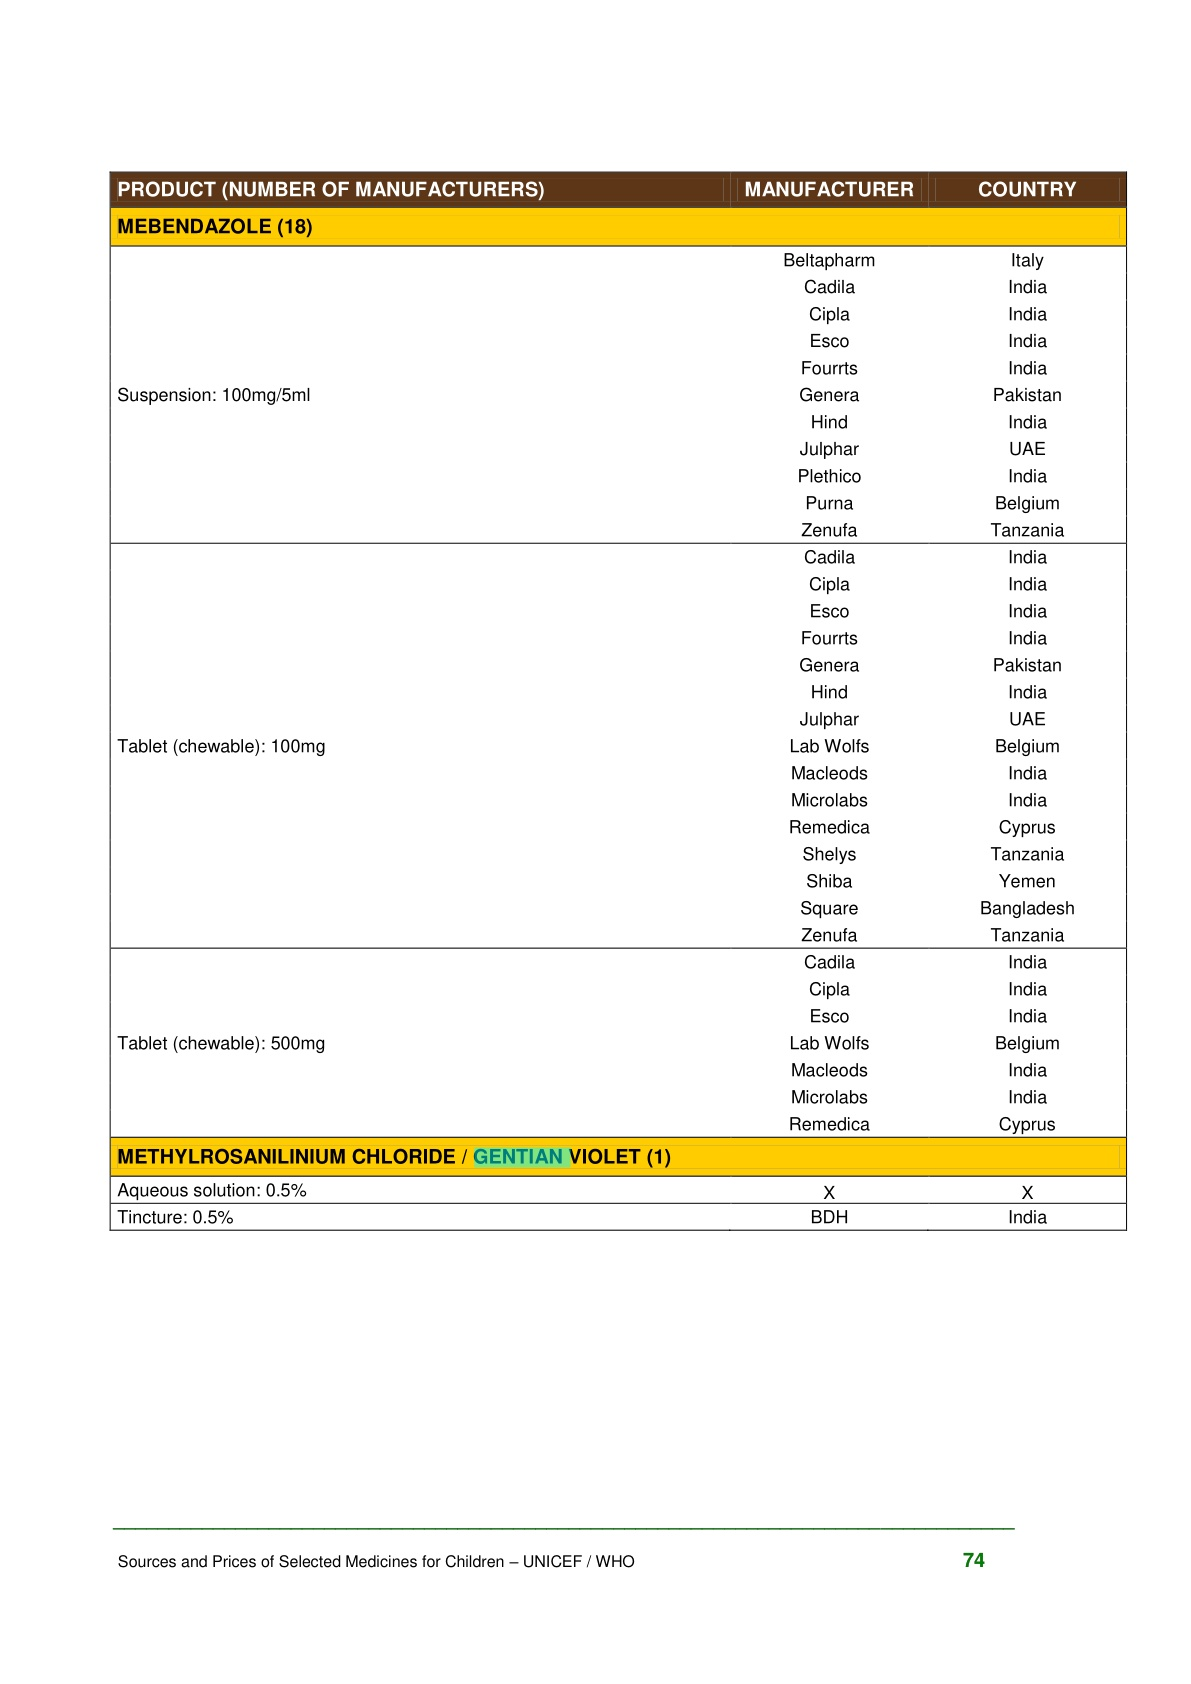partial_lined: (108, 170, 1128, 1232)
